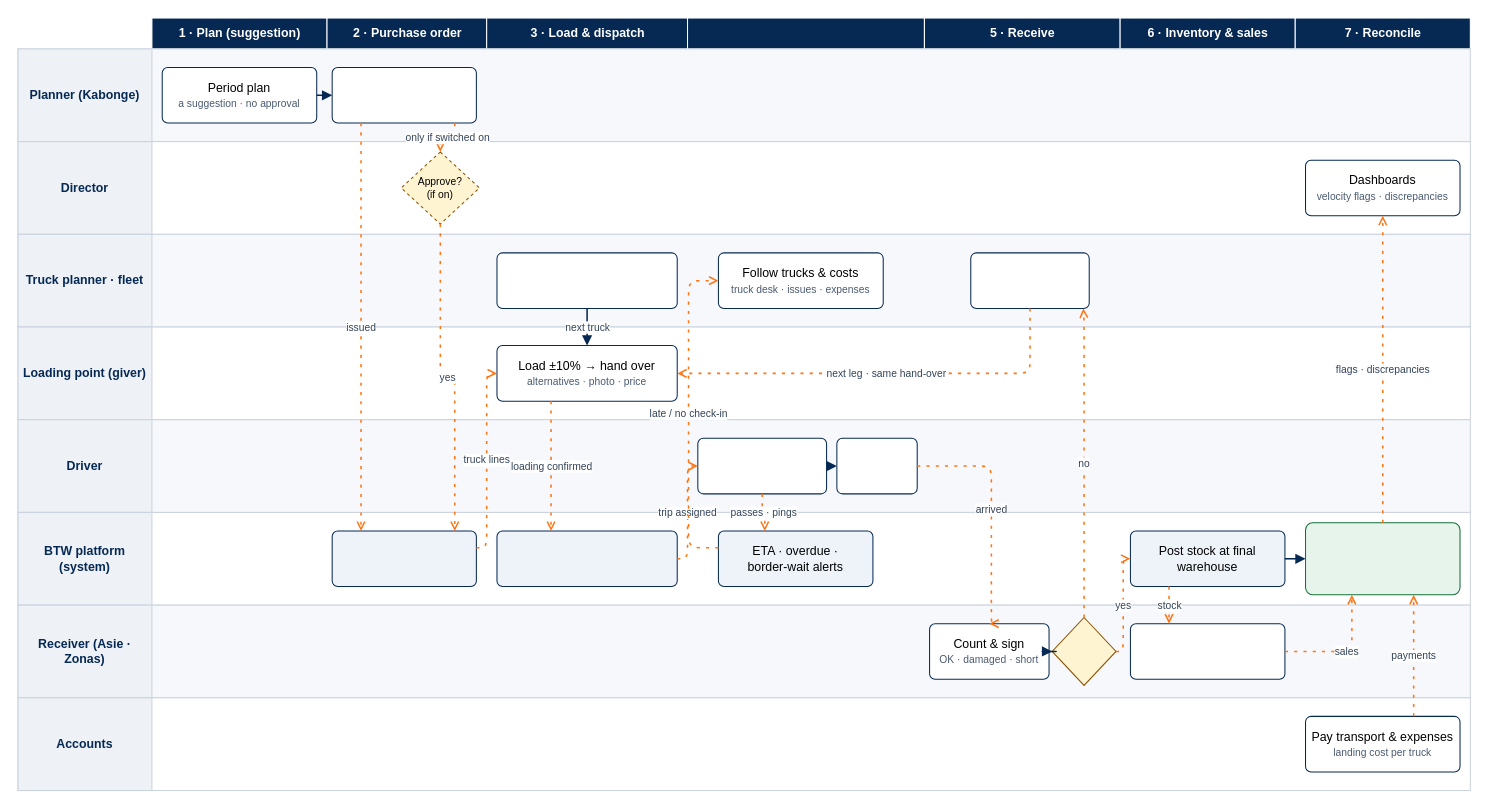
This 1488x809 diagram has some shape labels left out. The box of each missing label's shape, as (x1, y1, x2, y2) in pixels:
4 · Route & monitor: (686, 17, 924, 49)
Drive & check in slide · geofence · SMS: (697, 437, 827, 494)
Final?: (1051, 616, 1116, 685)
Issue PO lines per truck · ISSUED: (331, 66, 476, 123)
Line up trucks queue order · reasons: (496, 252, 677, 308)
Plan transfer leg: (970, 252, 1089, 308)
PO letter (PDF) emailed to supplier: (331, 530, 476, 587)
Problem → fixed: (836, 437, 917, 494)
Reconcile loaded vs received per leg · stock ledger · payments vs agreed: (1304, 522, 1460, 595)
Record sales cash · credit · batch: (1129, 623, 1285, 679)
Shipment & leg PO revision if load differs: (496, 530, 677, 587)
